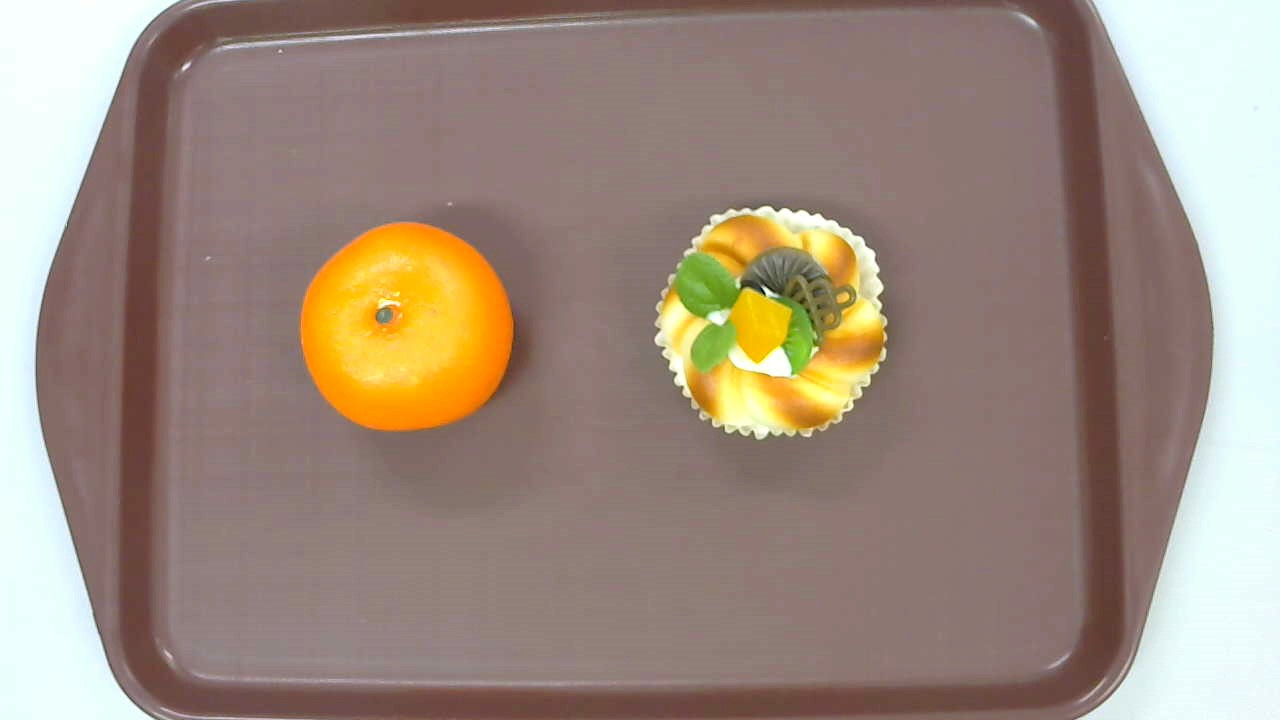fruit tart: (655, 205, 889, 441)
orange: (300, 220, 516, 434)
